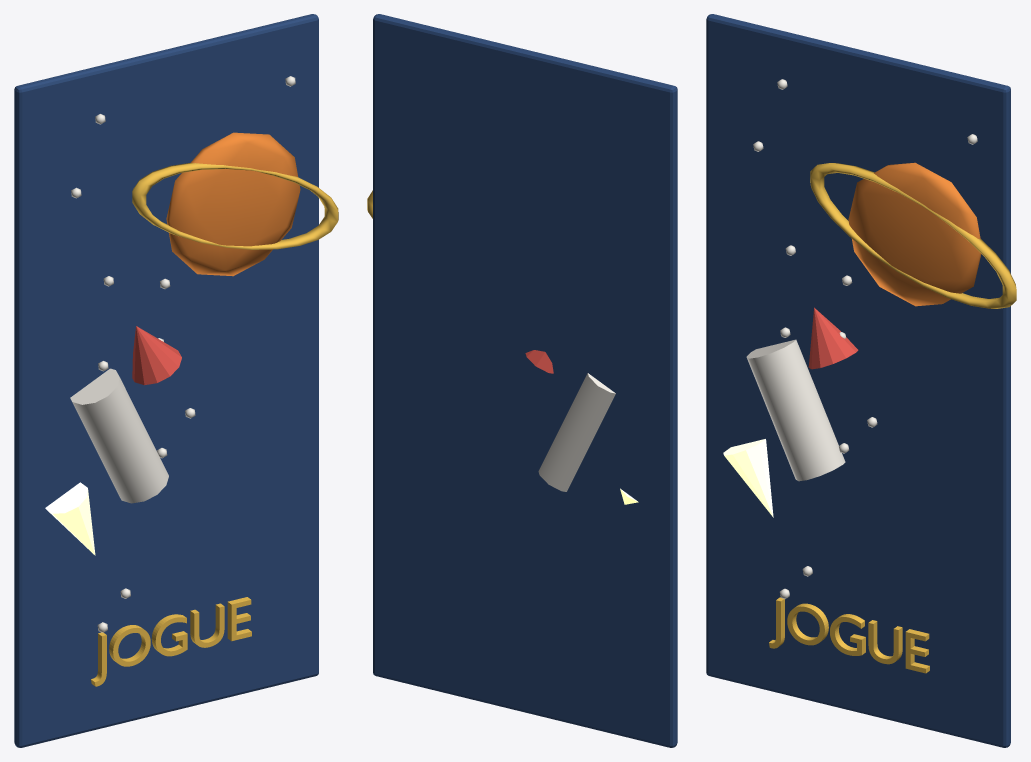
The model's file is poster.glb.
3 renders of one model, left to right at view 1: azimuth 30°, elevation 25°; view 2: azimuth 150°, elevation 25°; view 3: azimuth 330°, elevation 25°, orthographic.
Visible parts, largest first — view 1: poster; view 2: poster; view 3: poster.
Boxes of the visible parts, x1,y1,x2,y2 form: poster: [14, 14, 338, 747]; poster: [367, 14, 677, 747]; poster: [706, 14, 1016, 747].
Size of the model in its own units: 0.9207 by 1.84 by 0.14.
